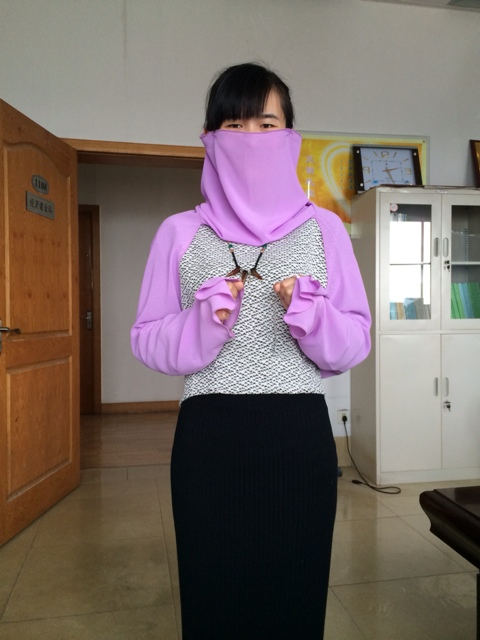face_mask: (216, 91, 286, 199)
